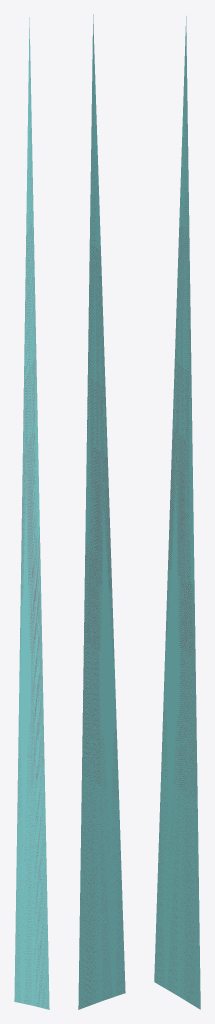
File: 西庸城堡727.dae
3 renders of one model, left to right at view 1: azimuth 30°, elevation 25°; view 2: azimuth 150°, elevation 25°; view 3: azimuth 330°, elevation 25°, orthographic.
Visible parts, largest first — view 1: SketchUp; view 2: SketchUp; view 3: SketchUp.
Boxes of the visible parts, x1,y1,x2,y2 form: SketchUp: [14, 17, 49, 1009]; SketchUp: [78, 14, 125, 1009]; SketchUp: [154, 16, 200, 1009].
Bounding box in the file's own units: 3.46 × 1.26 × 80.55.
